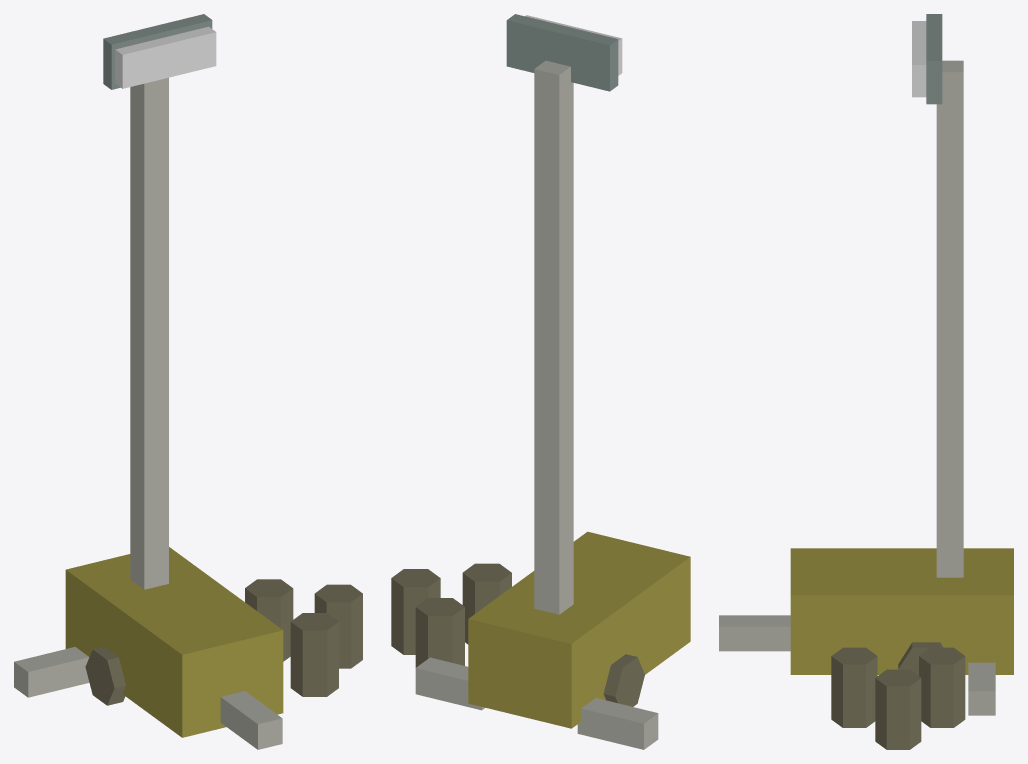
Rendered from SM_TorreLuz_v3_Bidones_LOD1.fbx.
3 renders of one model, left to right at view 1: azimuth 30°, elevation 25°; view 2: azimuth 150°, elevation 25°; view 3: azimuth 270°, elevation 25°, orthographic. The views are drawn at different scales.
Visible parts, largest first — view 1: SM_ambiente_aerodromo_v18_LOD1; view 2: SM_ambiente_aerodromo_v18_LOD1; view 3: SM_ambiente_aerodromo_v18_LOD1.
Boxes of the visible parts, <box> form: SM_ambiente_aerodromo_v18_LOD1: <box>14,14,362,749</box>; SM_ambiente_aerodromo_v18_LOD1: <box>391,14,690,749</box>; SM_ambiente_aerodromo_v18_LOD1: <box>719,14,1013,749</box>.
Bounding box in the file's own units: 4.05 × 8.7 × 3.7.
